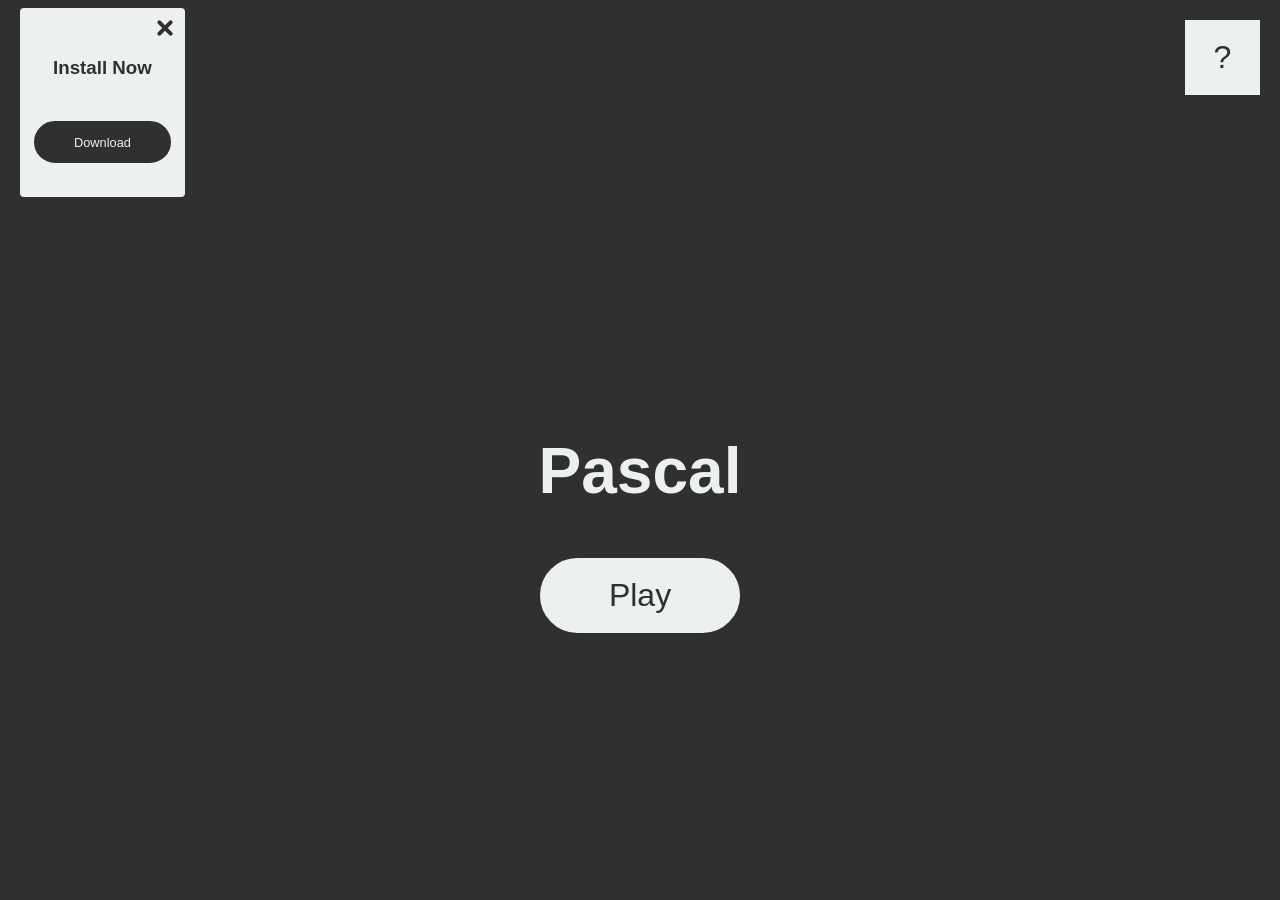
Test: <App /> › clicking PWA link
The image size is (1280, 900).
Step 1. Click the button "Download" → (102, 142), box x1=30 y1=117 x2=175 y2=167
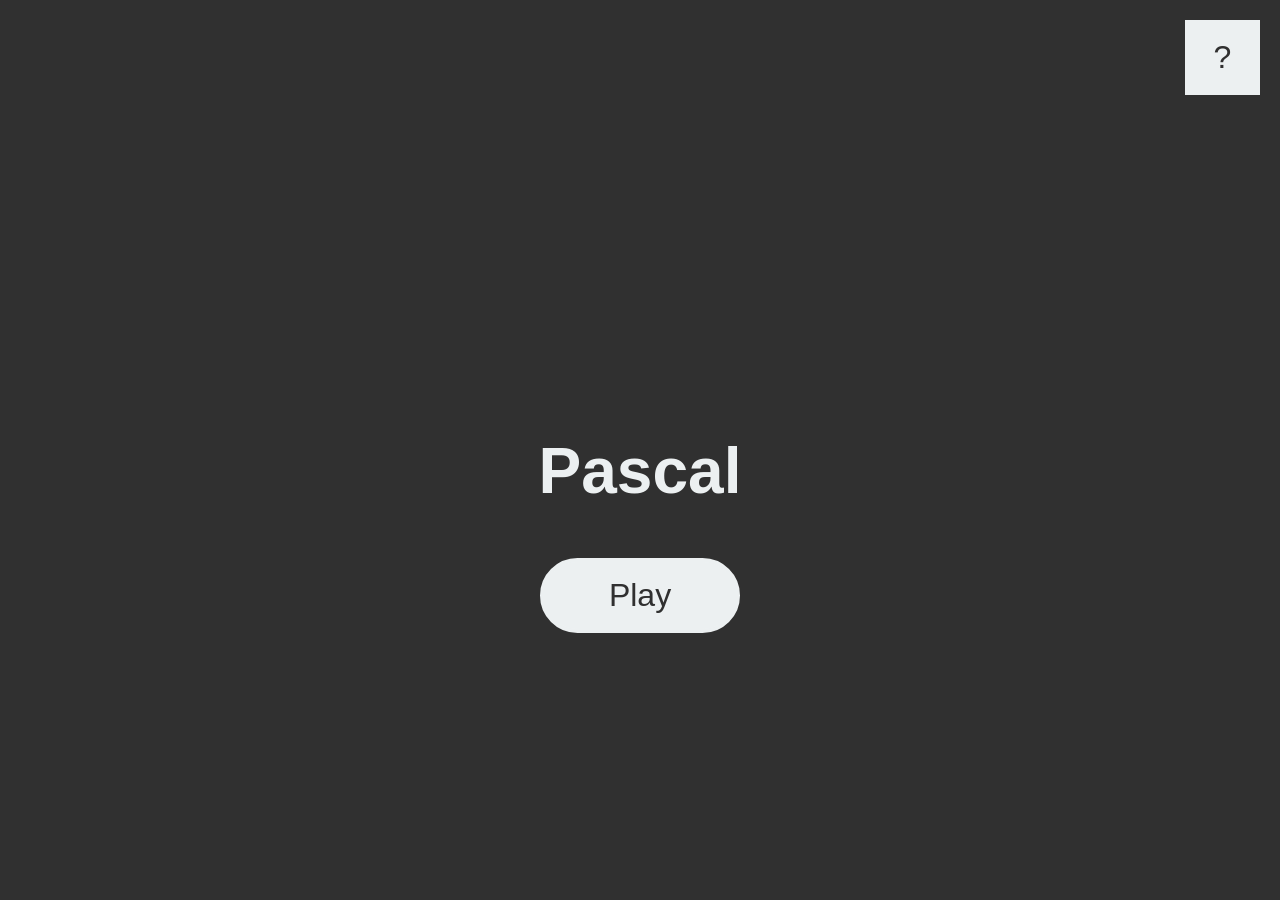
Check: the button "Download" is gone
